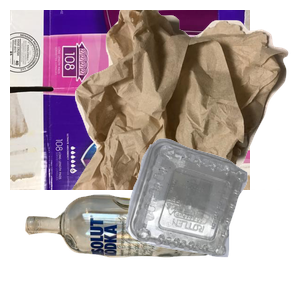cardboard: (10, 10, 250, 190)
glass: (22, 192, 234, 300)
plastic: (123, 136, 300, 300)
trash: (70, 10, 300, 190)
